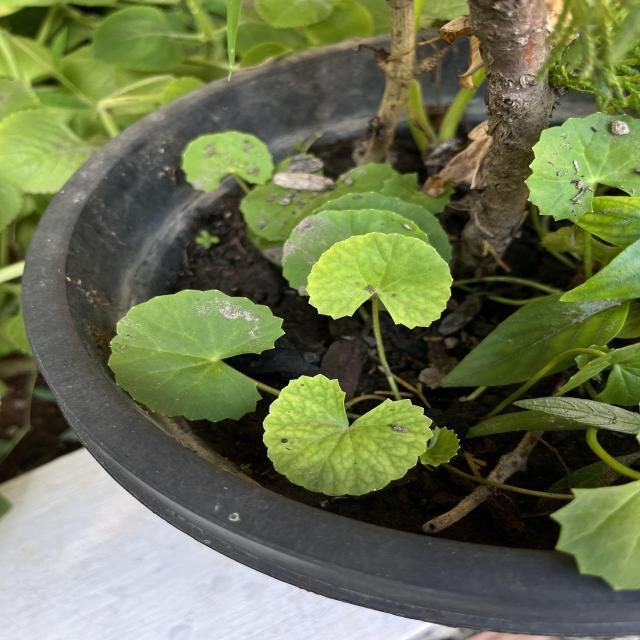Centella asiatica: (104, 286, 289, 425), (259, 371, 436, 498), (302, 229, 456, 332)
